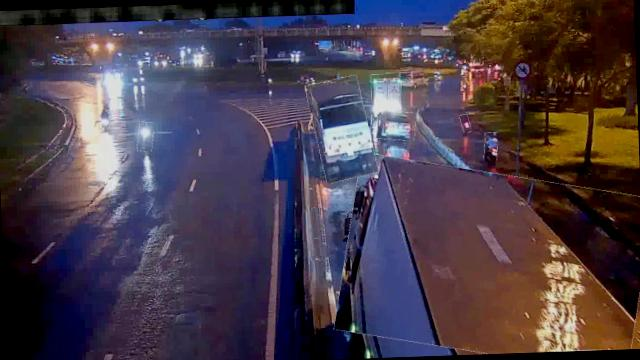Bike: (137, 121, 154, 152), (484, 133, 498, 161), (461, 114, 472, 132)
Car: (376, 110, 416, 141)
Truck: (335, 156, 640, 358), (309, 76, 375, 182), (371, 73, 403, 120)
